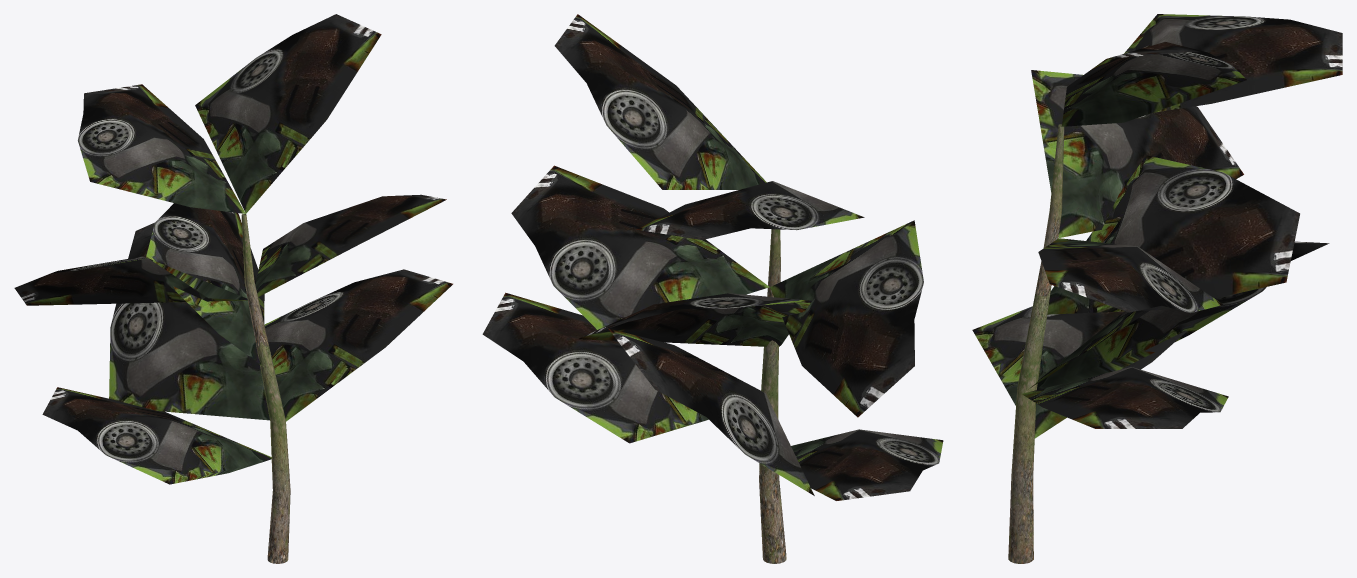
Rendered from grana_hrast_zuta.glb.
3 renders of one model, left to right at view 1: azimuth 30°, elevation 25°; view 2: azimuth 150°, elevation 25°; view 3: azimuth 270°, elevation 25°, orthographic. The views are drawn at different scales.
Visible parts, largest first — view 1: Branch_Oak_Yellow_1_aiStandardSurface4_0, Branch_Oak_Yellow_1_aiStandardSurface2_0; view 2: Branch_Oak_Yellow_1_aiStandardSurface4_0, Branch_Oak_Yellow_1_aiStandardSurface2_0; view 3: Branch_Oak_Yellow_1_aiStandardSurface4_0, Branch_Oak_Yellow_1_aiStandardSurface2_0.
Part boxes in pixels (x1,y1,x2,y2): Branch_Oak_Yellow_1_aiStandardSurface4_0: (14, 14, 452, 484); Branch_Oak_Yellow_1_aiStandardSurface2_0: (241, 214, 290, 563); Branch_Oak_Yellow_1_aiStandardSurface4_0: (482, 14, 943, 500); Branch_Oak_Yellow_1_aiStandardSurface2_0: (759, 229, 786, 563); Branch_Oak_Yellow_1_aiStandardSurface4_0: (972, 14, 1342, 438); Branch_Oak_Yellow_1_aiStandardSurface2_0: (1008, 124, 1064, 563).
Size of the model in its own units: 290 by 325 by 187.
Materials: 2 (2 with a texture image).
